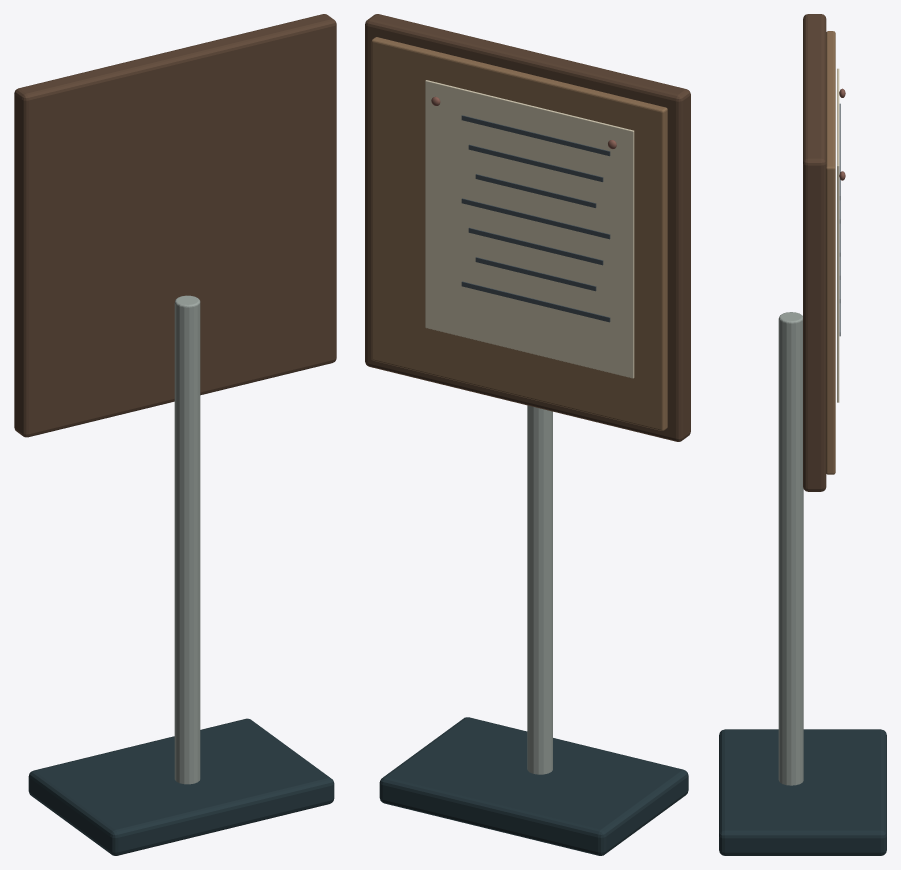
The model's file is notice.fbx.
3 renders of one model, left to right at view 1: azimuth 30°, elevation 25°; view 2: azimuth 150°, elevation 25°; view 3: azimuth 270°, elevation 25°, orthographic. The views are drawn at different scales.
Visible parts, largest first — view 1: notice; view 2: notice; view 3: notice.
Part boxes in pixels (x1,y1,x2,y2): notice: (14,14,336,855); notice: (365,14,690,855); notice: (719,14,886,855).
Size of the model in its own units: 90 by 203 by 43.
